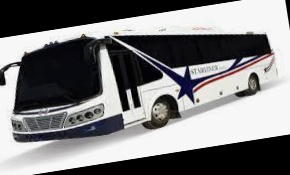bus: (0, 7, 284, 153)
